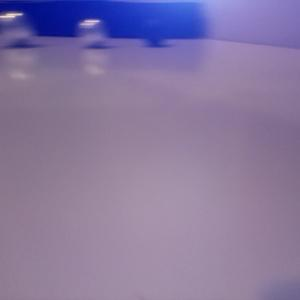alive_ball: (1, 10, 35, 48), (77, 18, 107, 47)
dead_ball: (141, 16, 168, 44)
